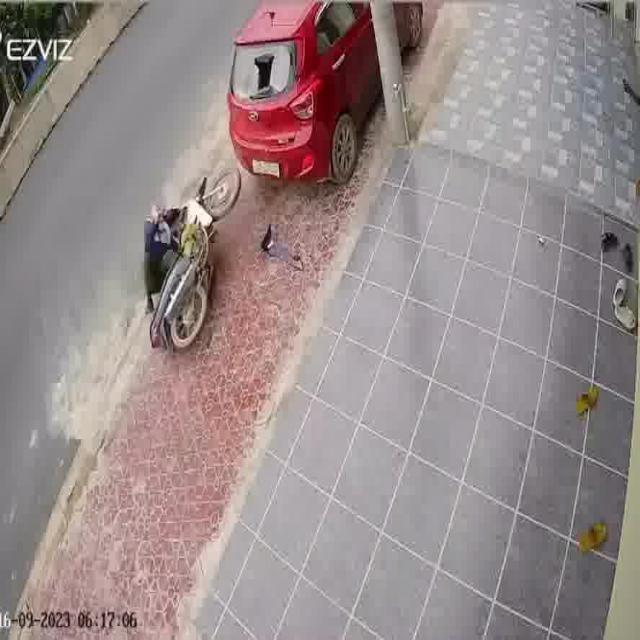multiple_accident: (136, 0, 389, 363)
